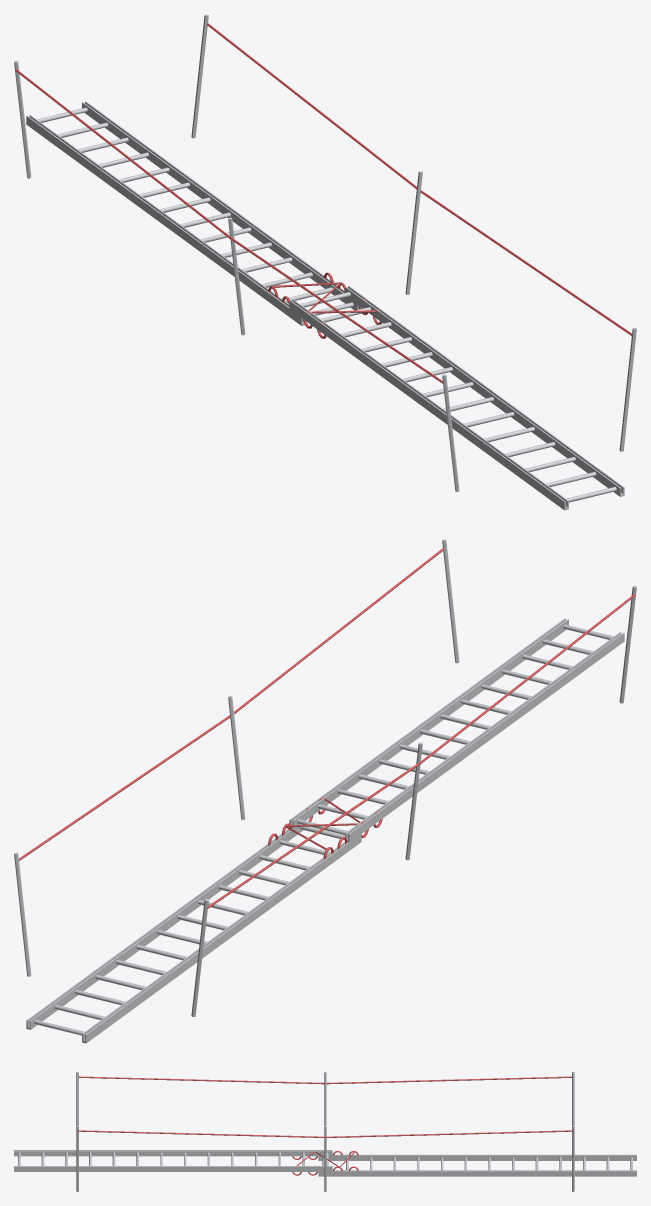
The model's file is mountaineering-and-summit-expedition-lashed-double-lad-68ee3839__18803.glb.
3 renders of one model, top to bottom at view 1: azimuth 30°, elevation 25°; view 2: azimuth 150°, elevation 25°; view 3: azimuth 270°, elevation 25°, orthographic. The views are drawn at different scales.
Parts seen in each view (by area): view 1: lashed-double-ladder; view 2: lashed-double-ladder; view 3: lashed-double-ladder.
Boxes of the visible parts, x1,y1,x2,y2 form: lashed-double-ladder: [14, 14, 636, 510]; lashed-double-ladder: [14, 539, 636, 1043]; lashed-double-ladder: [14, 1072, 636, 1191].
Bounding box in the file's own units: 1.46 × 0.8628 × 7.04.
